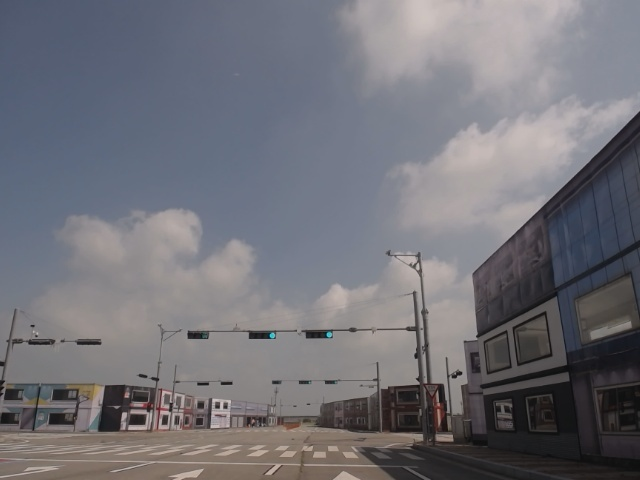straight_green_4: (304, 329, 334, 341), (246, 329, 276, 339)
